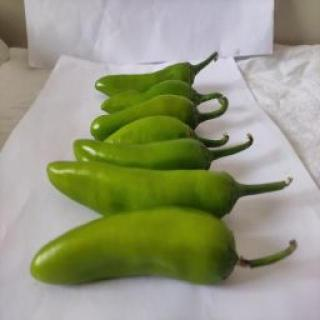Cabai Hijau: (28, 205, 300, 293), (43, 157, 297, 221)
